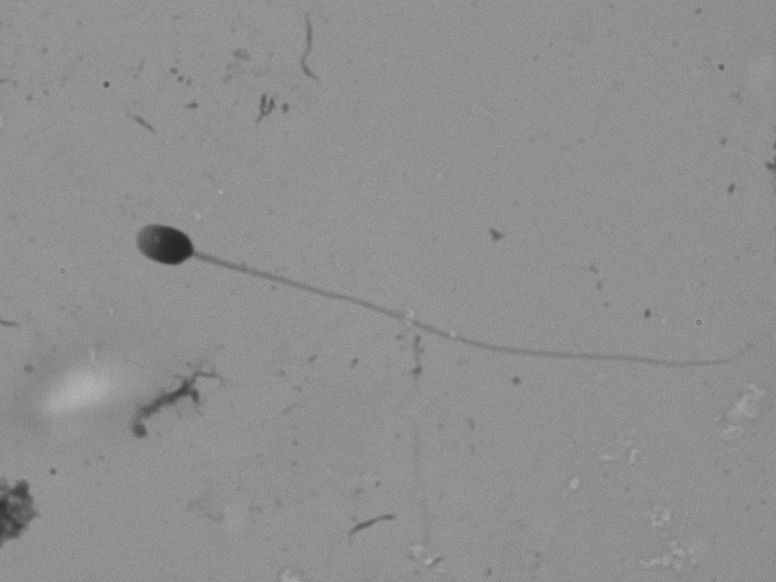Normal: (114, 188, 767, 380)
